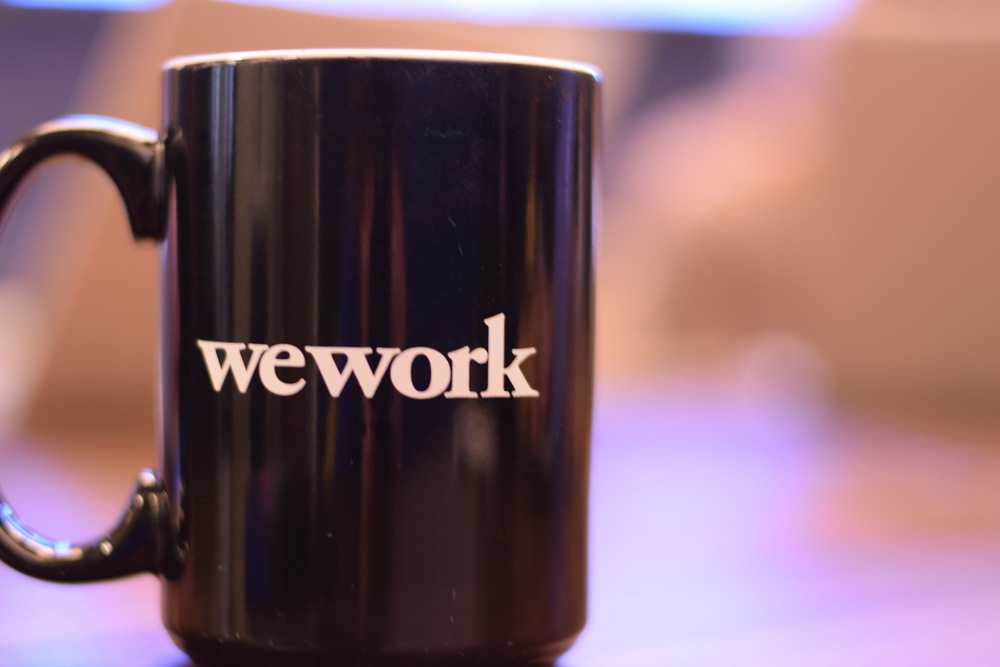wework: (193, 308, 546, 404)
